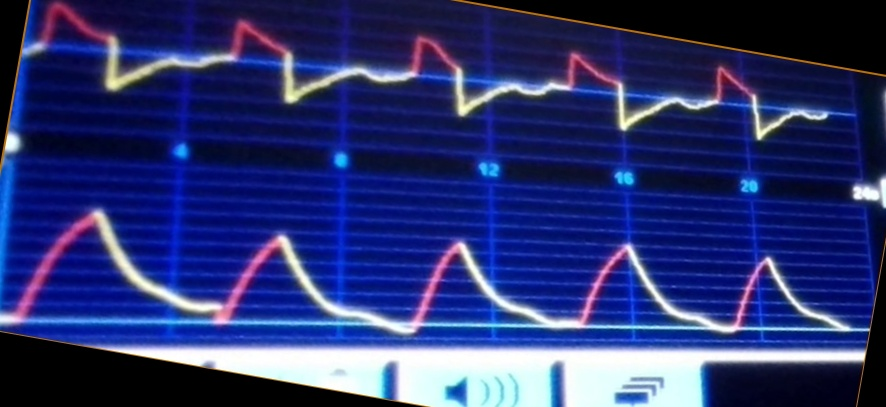Ineffective_effort Flow: (30, 3, 829, 141)
Ineffective_effort Volume: (1, 206, 851, 341)
